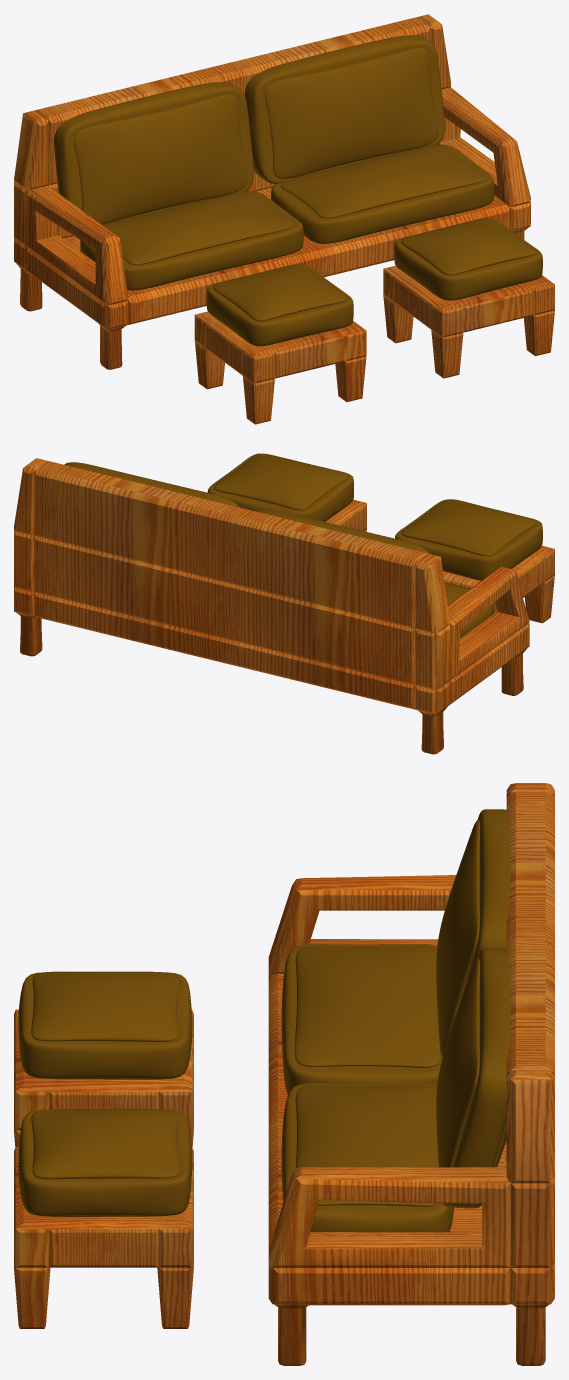
File: Couch.FBX
3 views of the same model, one above another, from view 1: azimuth 30°, elevation 25°; view 2: azimuth 150°, elevation 25°; view 3: azimuth 270°, elevation 25° (orthographic). The views are drawn at different scales.
Parts seen in each view (by area): view 1: Box005, Box004, Box003, Box007, Box006, Box002, Couch; view 2: Box005, Box006, Box007, Box004, Box003, Couch; view 3: Box005, Box006, Couch, Box007, Box002, Box004, Box003.
Part boxes in pixels (x1,y1,x2,y2): Box005: (14, 14, 530, 369); Box004: (244, 35, 444, 183); Box003: (54, 82, 254, 224); Box007: (194, 265, 554, 424); Box006: (206, 218, 542, 346); Box002: (271, 144, 494, 243); Couch: (80, 191, 303, 290); Box005: (14, 458, 529, 754); Box006: (207, 453, 542, 580); Box007: (326, 499, 554, 623); Box004: (64, 462, 239, 507); Box003: (255, 509, 429, 553); Couch: (444, 583, 493, 637); Box005: (268, 783, 554, 1365); Box006: (18, 971, 192, 1216); Couch: (281, 944, 442, 1094); Box007: (14, 1009, 193, 1328); Box002: (281, 1083, 453, 1232); Box004: (436, 947, 510, 1208); Box003: (436, 809, 510, 1056).
Size of the model in its own units: 418 by 183 by 307.
